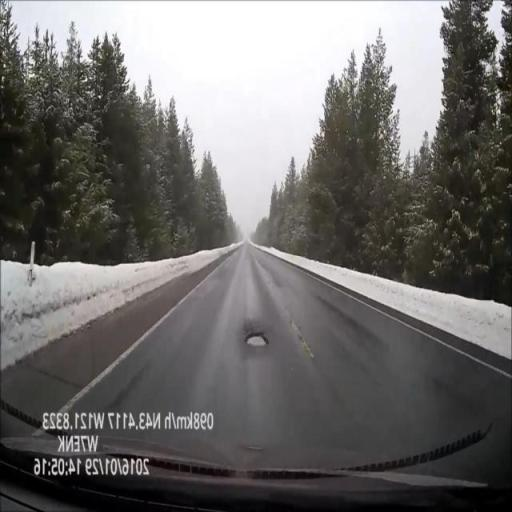pothole: (243, 331, 270, 349)
